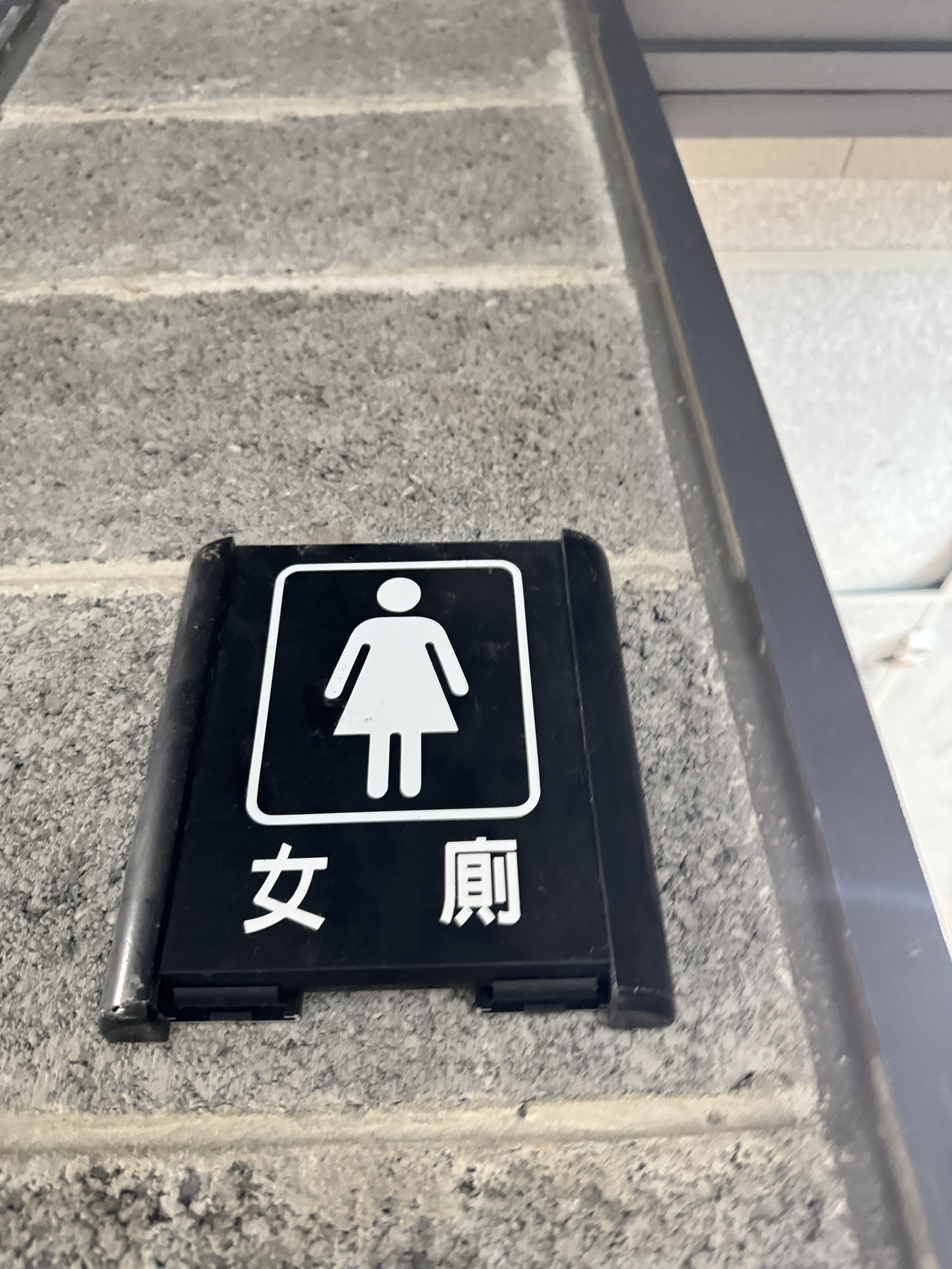toilet_sign: (84, 503, 694, 1046), (109, 538, 681, 1025)
